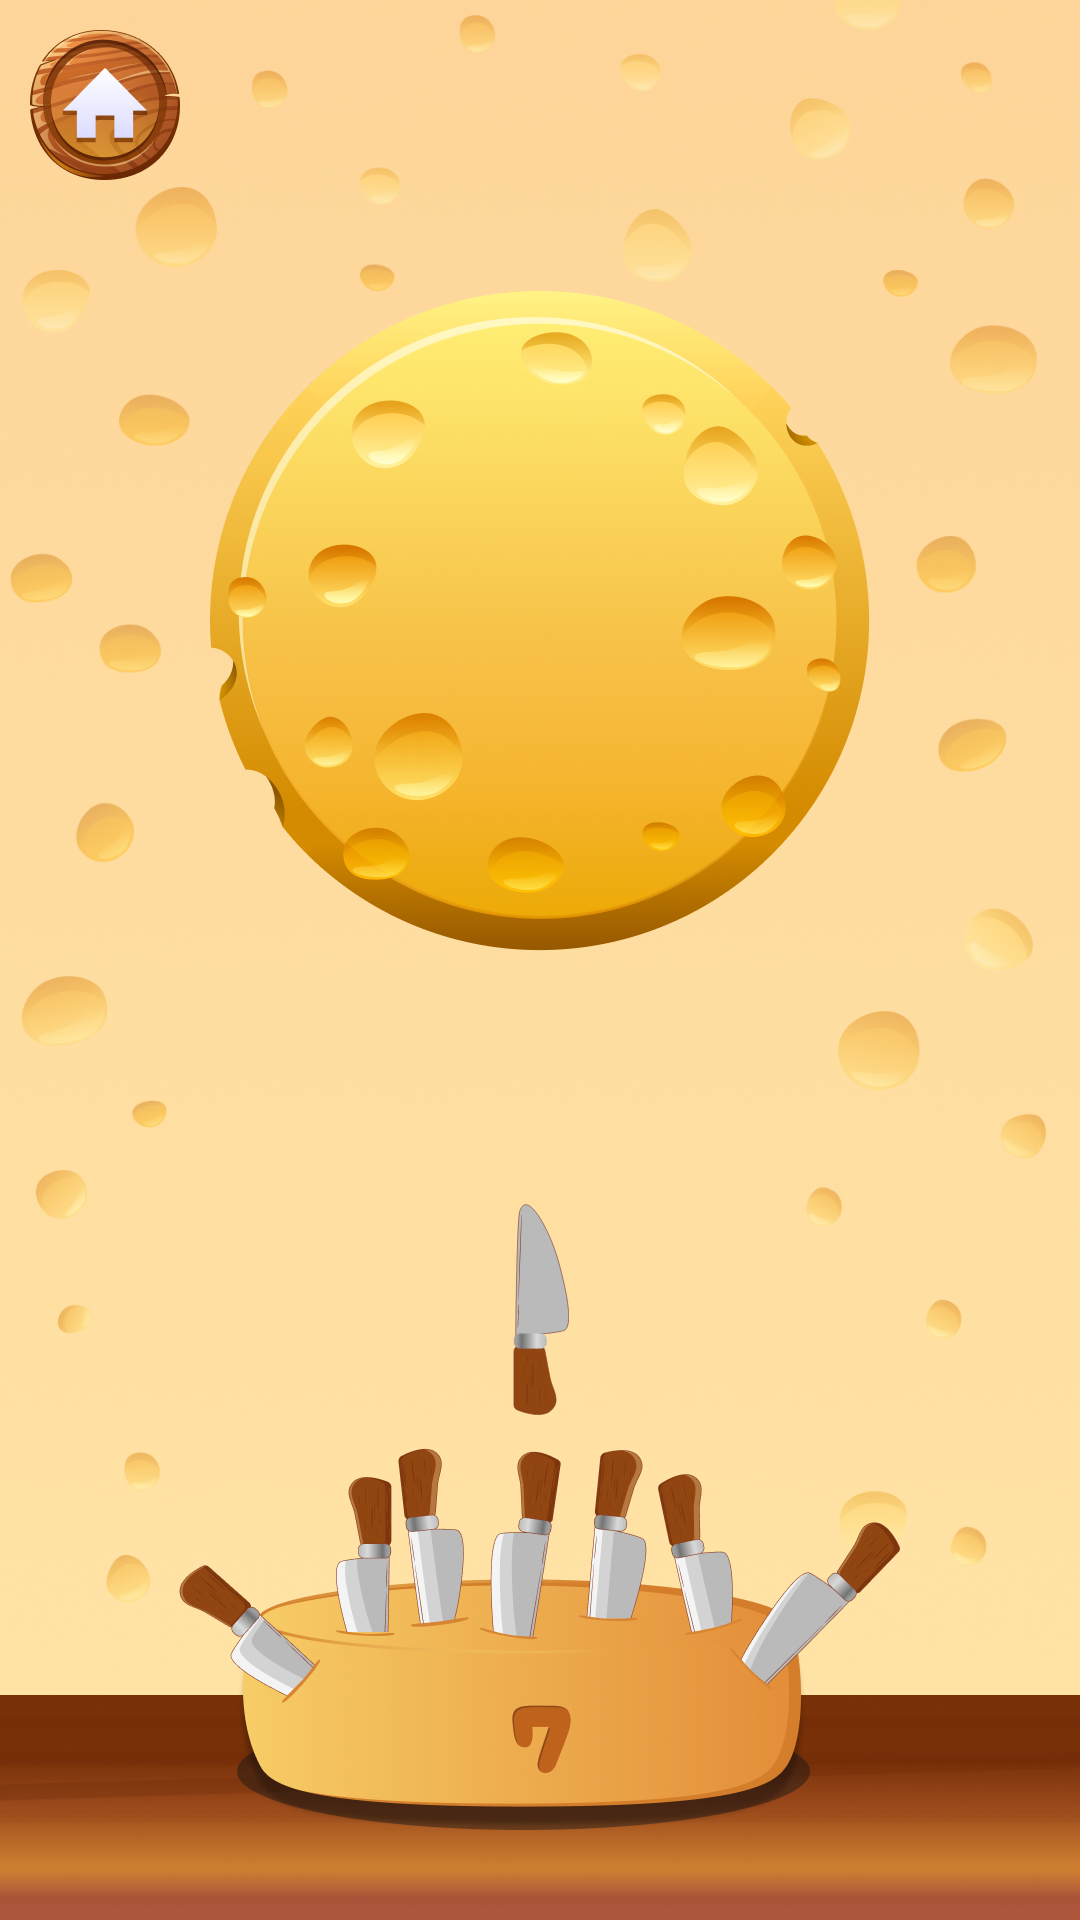

Point at icon controls on the screen. Image size 1080×1920, points as (x,y).
home sel: (105,105)
knife: (541,1309)
